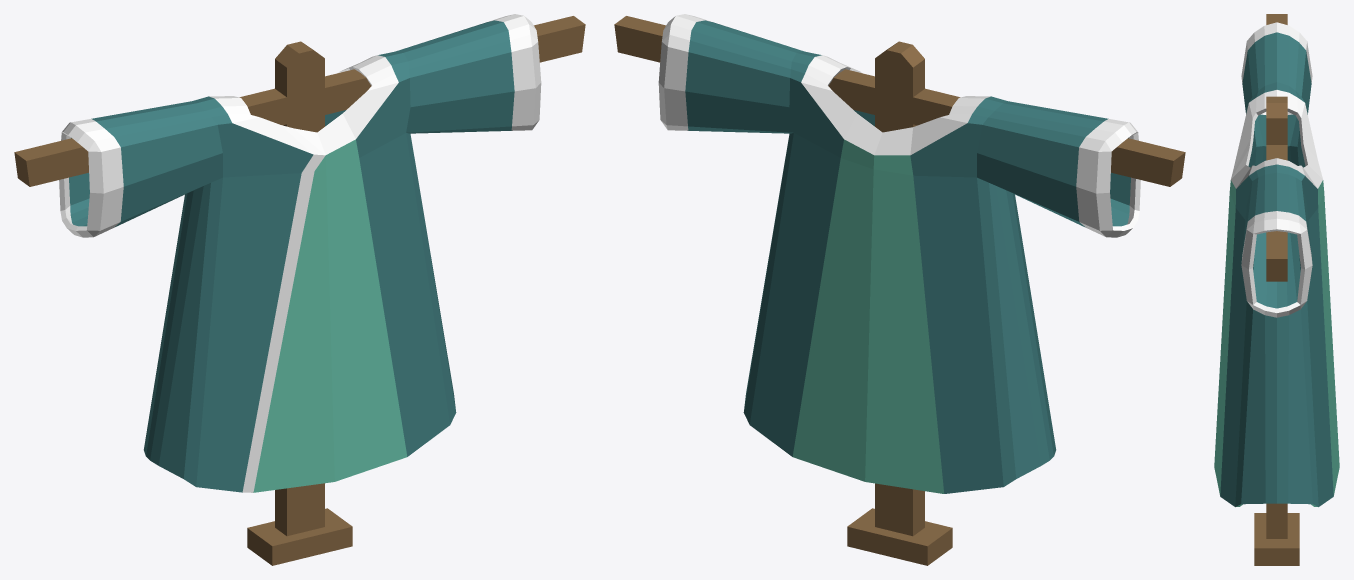
The model's file is Kimono_2.fbx.
3 views of the same model, side by side, from view 1: azimuth 30°, elevation 25°; view 2: azimuth 150°, elevation 25°; view 3: azimuth 270°, elevation 25° (orthographic). The views are drawn at different scales.
Parts seen in each view (by area): view 1: Kimono_2; view 2: Kimono_2; view 3: Kimono_2.
Part boxes in pixels (x1,y1,x2,y2): Kimono_2: [14, 14, 585, 565]; Kimono_2: [614, 14, 1185, 565]; Kimono_2: [1214, 14, 1339, 565].
Size of the model in its own units: 100 by 85.7 by 21.73.
